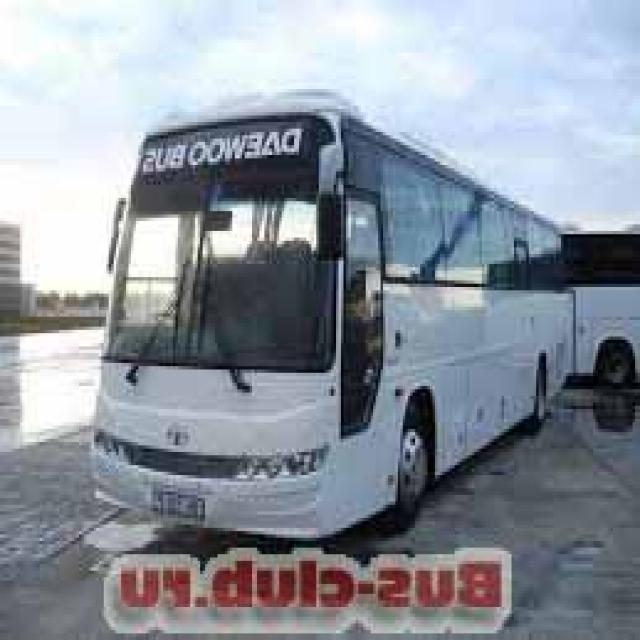bus: (86, 83, 568, 541)
